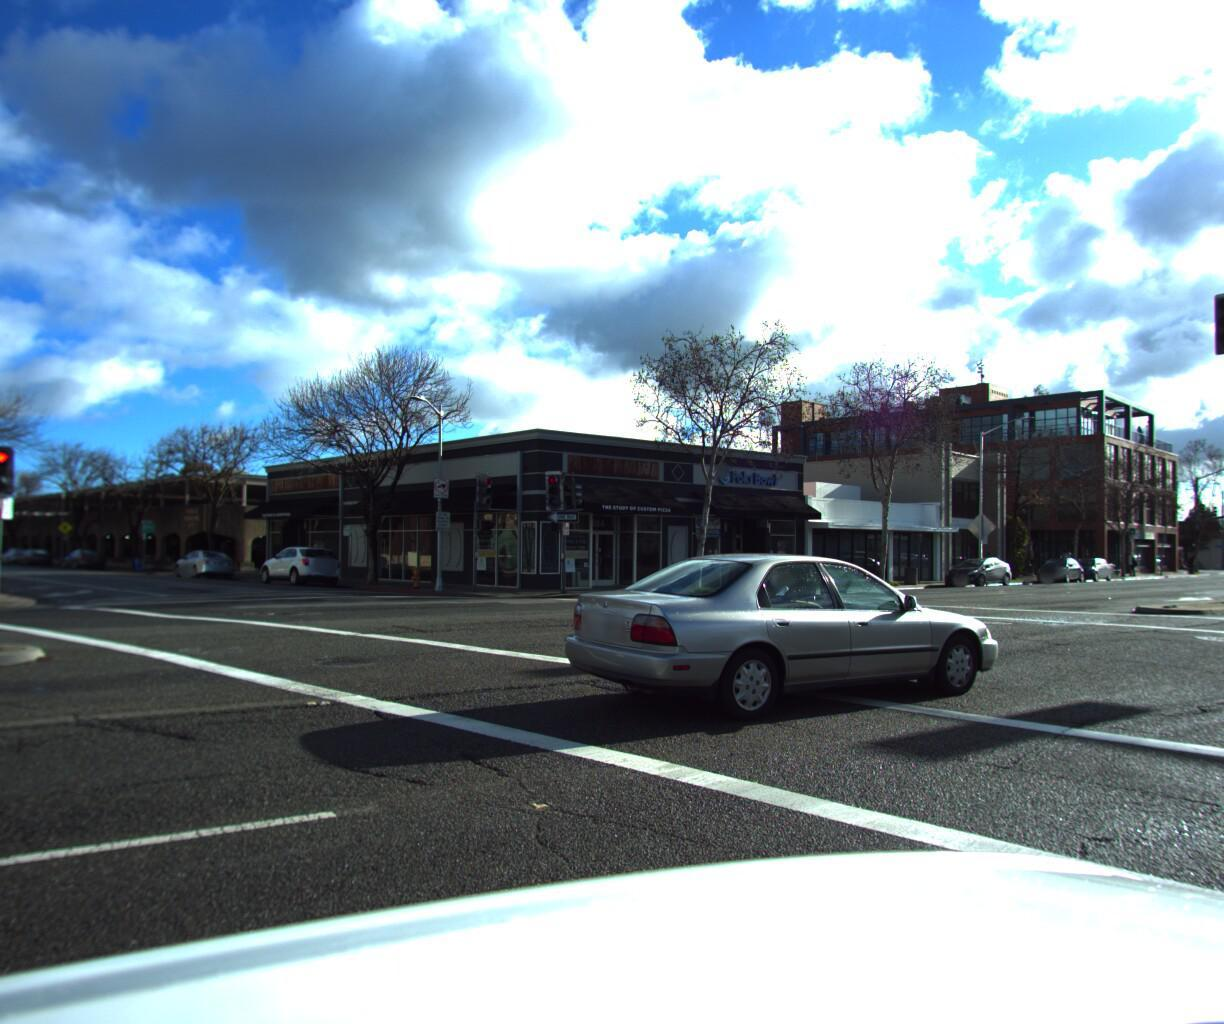car: (543, 544, 1016, 738), (256, 541, 353, 589), (934, 549, 1014, 585), (168, 546, 245, 580), (1024, 549, 1085, 578), (1053, 550, 1113, 576), (58, 544, 111, 568), (11, 543, 56, 563), (0, 542, 36, 562)
